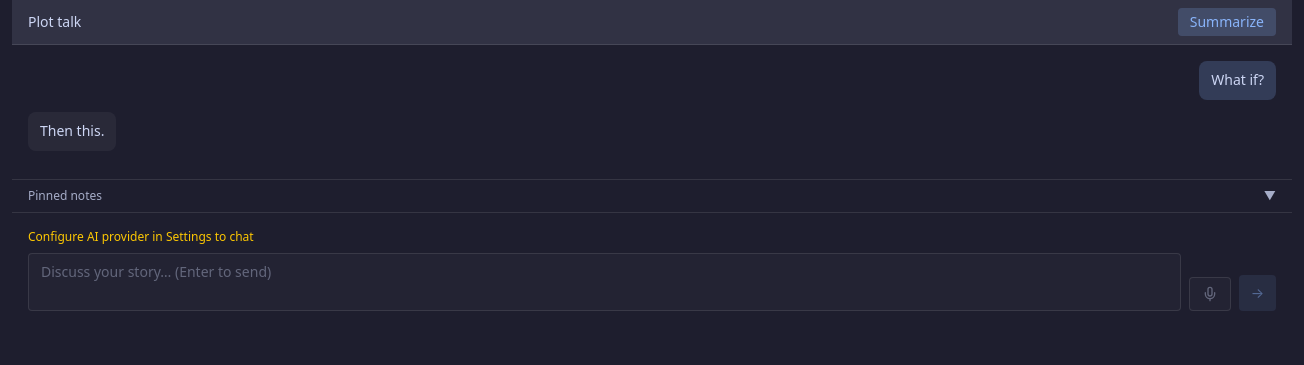
Test: discussion summarize › shows the server error when summarization fails
Expected: the text "What if?" is shown, [1199,61,1276,100]
Click the button "Summarize" at (1227, 22), box [1178,8,1276,36]
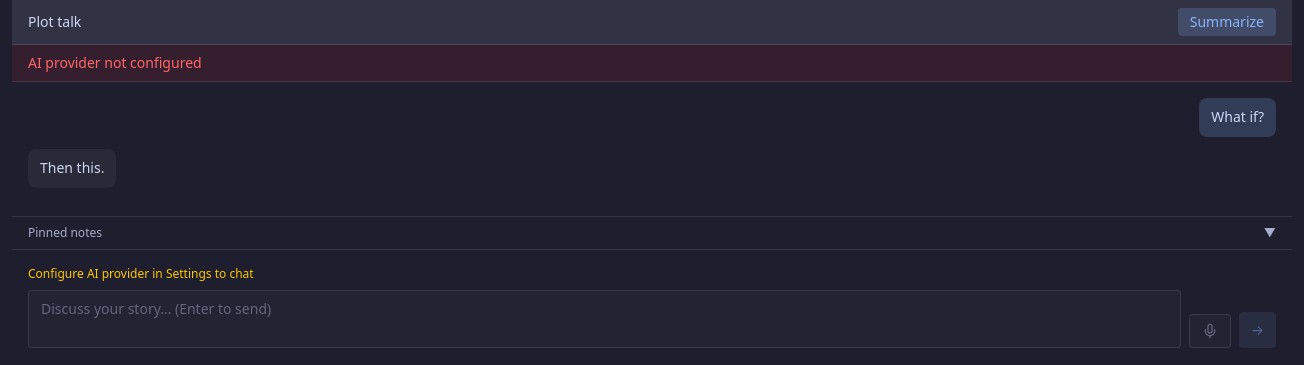
Now the text "AI provider not configured" is shown, box [12,45,1292,82]
